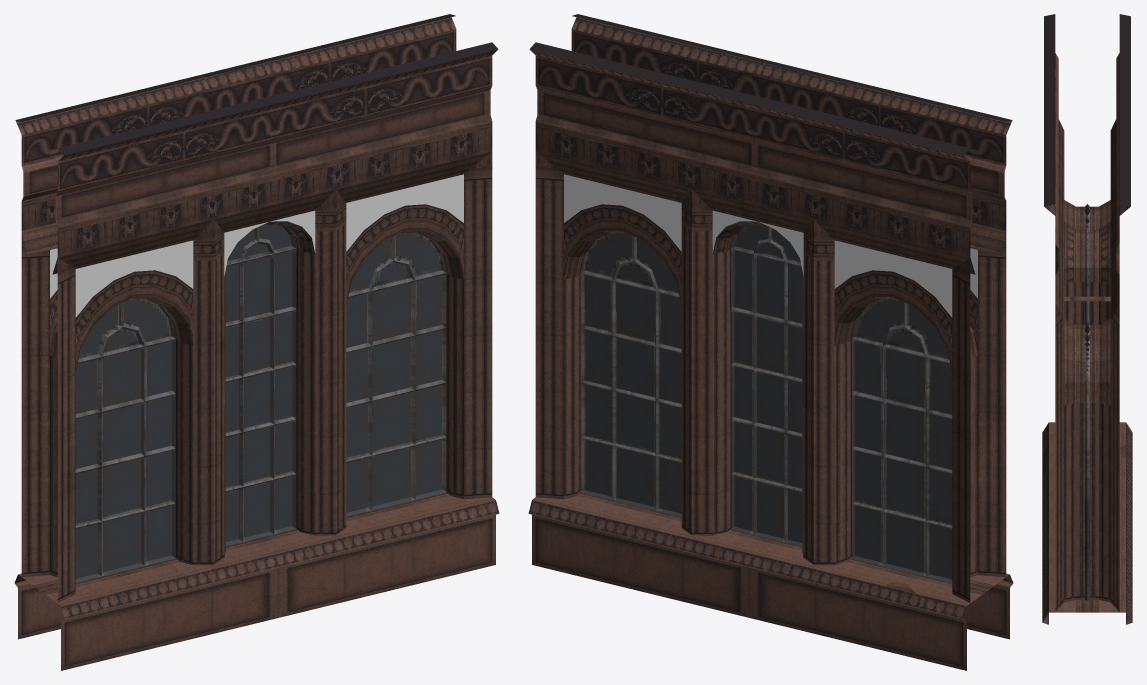
Rendered from sm_window_wall_01.glb.
The picture shows the model from 3 angles, left to right: view 1: azimuth 30°, elevation 25°; view 2: azimuth 150°, elevation 25°; view 3: azimuth 270°, elevation 25°; orthographic projection. The views are drawn at different scales.
Visible parts, largest first — view 1: arch_big_003.001, sm_arch_wall_01.016, arch_big_003.008, arch_big_003.010, arch_big_003.006, arch_big_003.007; view 2: arch_big_003.001, sm_arch_wall_01.016, arch_big_003.008, arch_big_003.010, arch_big_003.006, arch_big_003.007; view 3: arch_big_003.001, sm_arch_wall_01.016, arch_big_003.006, arch_big_003.007.
Boxes of the visible parts, bbox=[...] form: arch_big_003.001: bbox=[14, 152, 499, 670]; sm_arch_wall_01.016: bbox=[15, 14, 498, 274]; arch_big_003.008: bbox=[75, 233, 442, 578]; arch_big_003.010: bbox=[225, 224, 292, 541]; arch_big_003.006: bbox=[75, 233, 446, 582]; arch_big_003.007: bbox=[225, 224, 296, 545]; arch_big_003.001: bbox=[528, 152, 1013, 670]; sm_arch_wall_01.016: bbox=[529, 14, 1012, 274]; arch_big_003.008: bbox=[584, 233, 952, 579]; arch_big_003.010: bbox=[734, 224, 802, 542]; arch_big_003.006: bbox=[581, 236, 952, 582]; arch_big_003.007: bbox=[731, 227, 802, 545]; arch_big_003.001: bbox=[1042, 200, 1132, 624]; sm_arch_wall_01.016: bbox=[1044, 14, 1130, 320]; arch_big_003.006: bbox=[1085, 204, 1089, 600]; arch_big_003.007: bbox=[1085, 227, 1089, 324].
Size of what is drawn, in the model's own units: 7 by 8 by 1.4.
3 materials, 2 textured.
